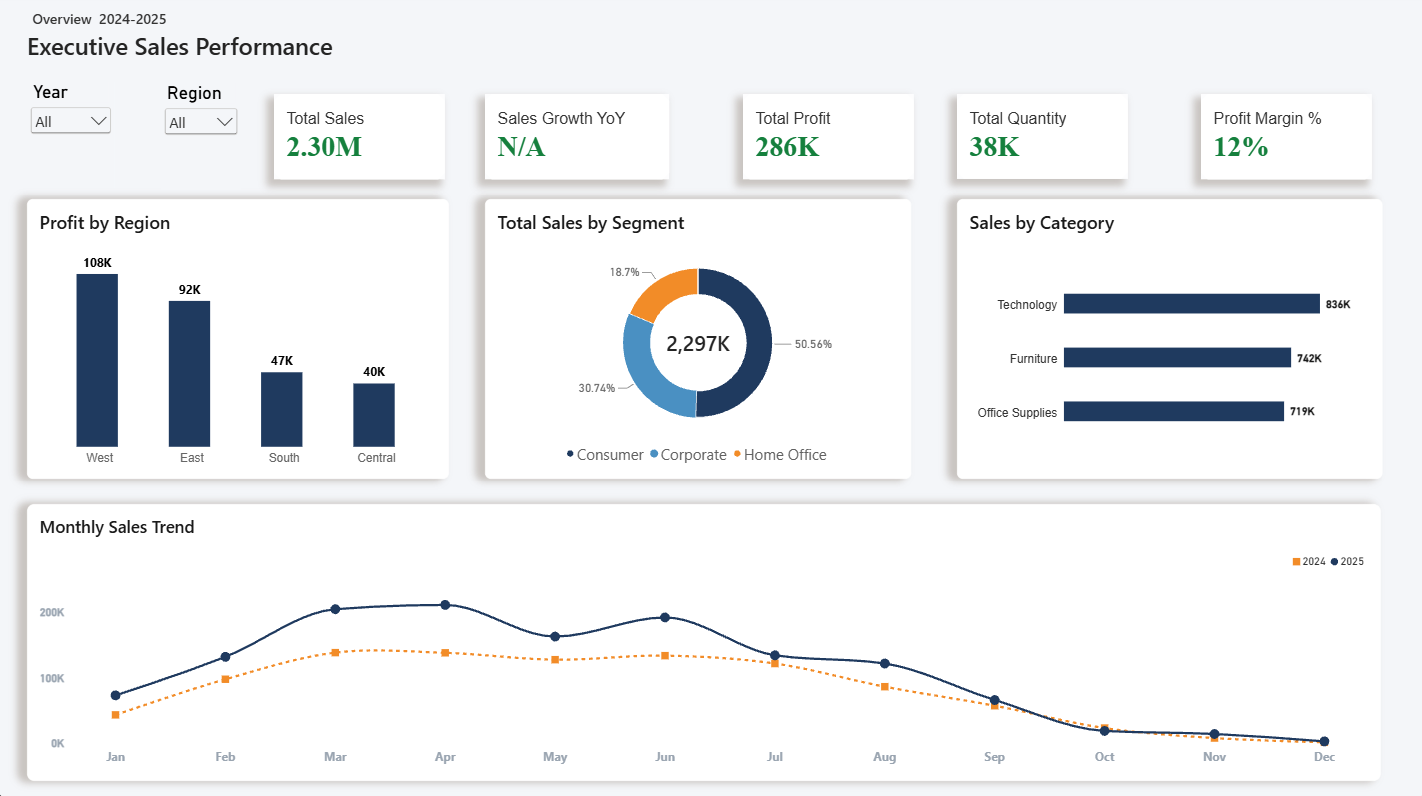

The dashboard page shown, as its layout file describes it:
{"tool":"powerbi","page":{"name":"Page 1","canvas":[1920,1080],"ordinal":0},"visuals":[{"type":"lineChart","title":"Monthly Sales Trend","fields":{"Category":["Date.Month Neam"],"Series":["Date.Year"],"Y":["Fact.Total Sales"]},"box":[38.3,685,1823.3,373.3],"z":0},{"type":"clusteredBarChart","title":"Sales by Category","fields":{"Category":["Prodcat dim.Category"],"Y":["Fact.Total Sales"]},"box":[1290,275,573.3,376.7],"z":1000},{"type":"clusteredColumnChart","title":"Profit by Region","fields":{"Category":["Loction dim.Region"],"Y":["Prodcat dim.Total Profit"]},"box":[38.3,275,568.3,376.7],"z":2000},{"type":"donutChart","fields":{"Category":["customer dim.Segment"],"Y":["Fact.Total Sales"]},"box":[654.5,274.7,573.7,377.1],"z":3000},{"type":"cardVisual","fields":{"Data":["Fact.Sales Color"]},"box":[370,133.3,230,115],"z":4000},{"type":"cardVisual","fields":{"Data":["Prodcat dim.Total Quantity"]},"box":[1290,133.3,230.3,114.5],"z":5000},{"type":"cardVisual","fields":{"Data":["Prodcat dim.Total Profit"]},"box":[1001.7,133.3,230,115],"z":6000},{"type":"cardVisual","fields":{"Data":["Prodcat dim.Profit Margin %"]},"box":[1618.3,133.3,230,115],"z":7000},{"type":"slicer","fields":{"Values":["Date.Year"]},"box":[38.3,116.7,118.3,143.3],"z":8000},{"type":"textbox","title":"Sales Performance Executive ","box":[38.3,10,515,105],"z":10000},{"type":"cardVisual","fields":{"Data":["Date.Sales Growth Display"]},"box":[655,133.3,248.3,115],"z":11000},{"type":"slicer","fields":{"Values":["Loction dim.Region"]},"box":[218.3,118.3,107.5,143.8],"z":11500}]}

Visuals, with their boxes in screenshot pixels (x1, y1, x2, y2), scaled from the page's 1920x1080 canvas onto the 1422x796 screenshot:
"Monthly Sales Trend" lineChart: 28/505/1379/780
"Sales by Category" clusteredBarChart: 955/203/1380/480
"Profit by Region" clusteredColumnChart: 28/203/449/480
donutChart - customer dim.Segment x Fact.Total Sales: 485/202/910/480
cardVisual - Fact.Sales Color: 274/98/444/183
cardVisual - Prodcat dim.Total Quantity: 955/98/1126/183
cardVisual - Prodcat dim.Total Profit: 742/98/912/183
cardVisual - Prodcat dim.Profit Margin %: 1199/98/1369/183
slicer - Date.Year: 28/86/116/192
"Sales Performance Executive " textbox: 28/7/410/85
cardVisual - Date.Sales Growth Display: 485/98/669/183
slicer - Loction dim.Region: 162/87/241/193
